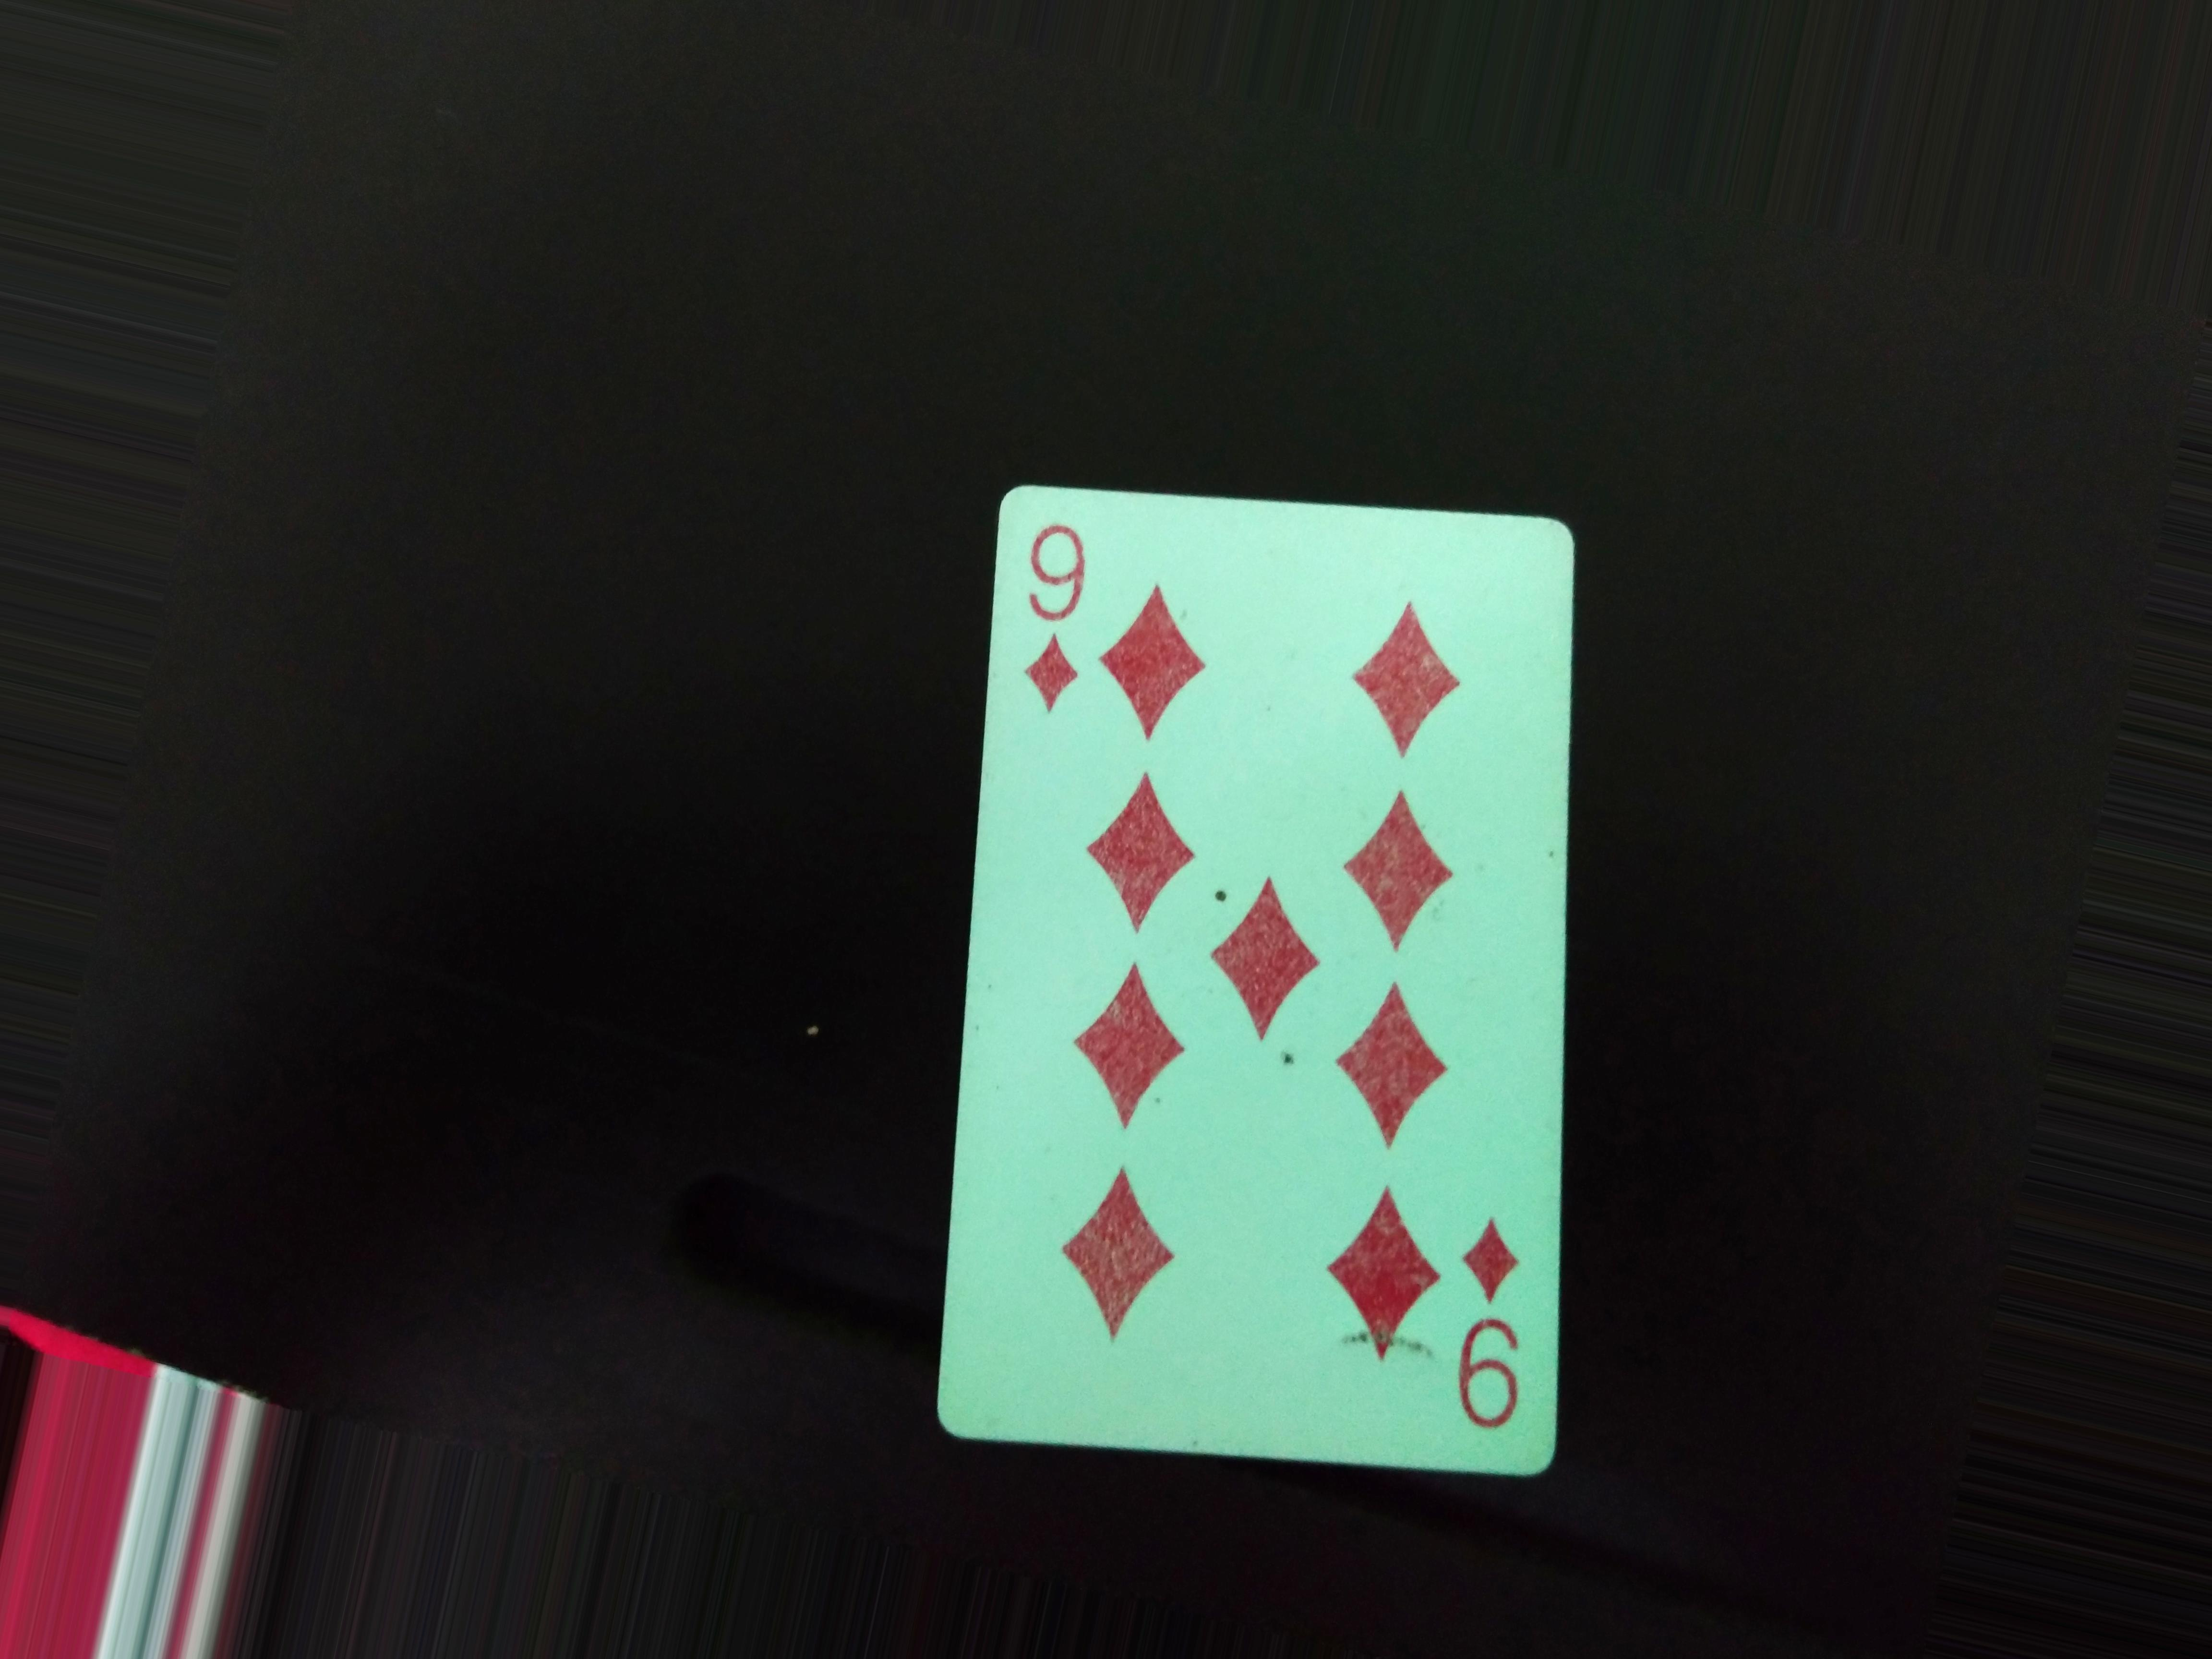9D: (1015, 486, 1096, 753)
